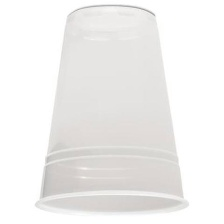glass: (32, 0, 194, 221)
